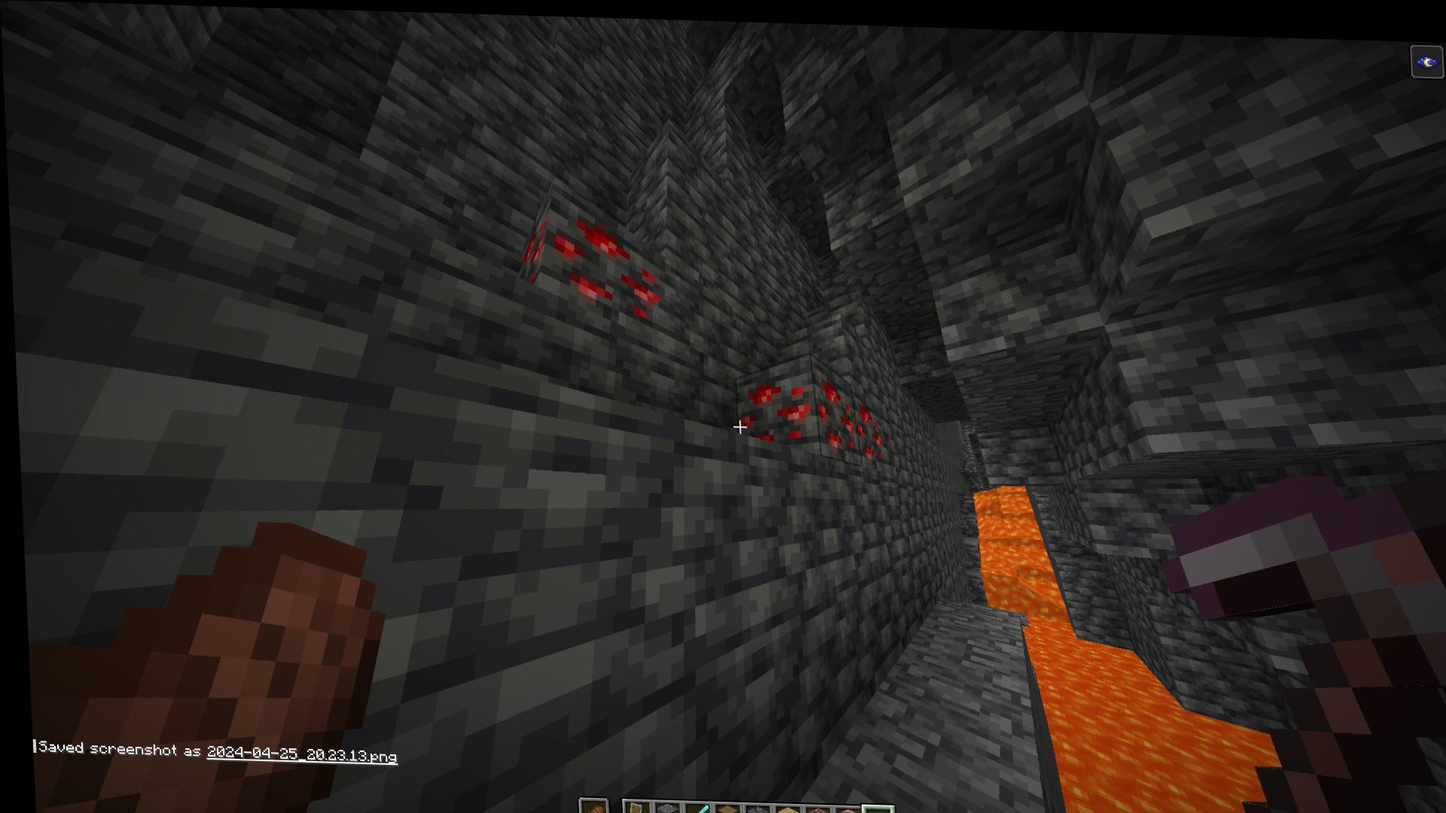redstone ore: (508, 206, 661, 315), (731, 358, 814, 445), (809, 369, 858, 456), (849, 400, 886, 462)
